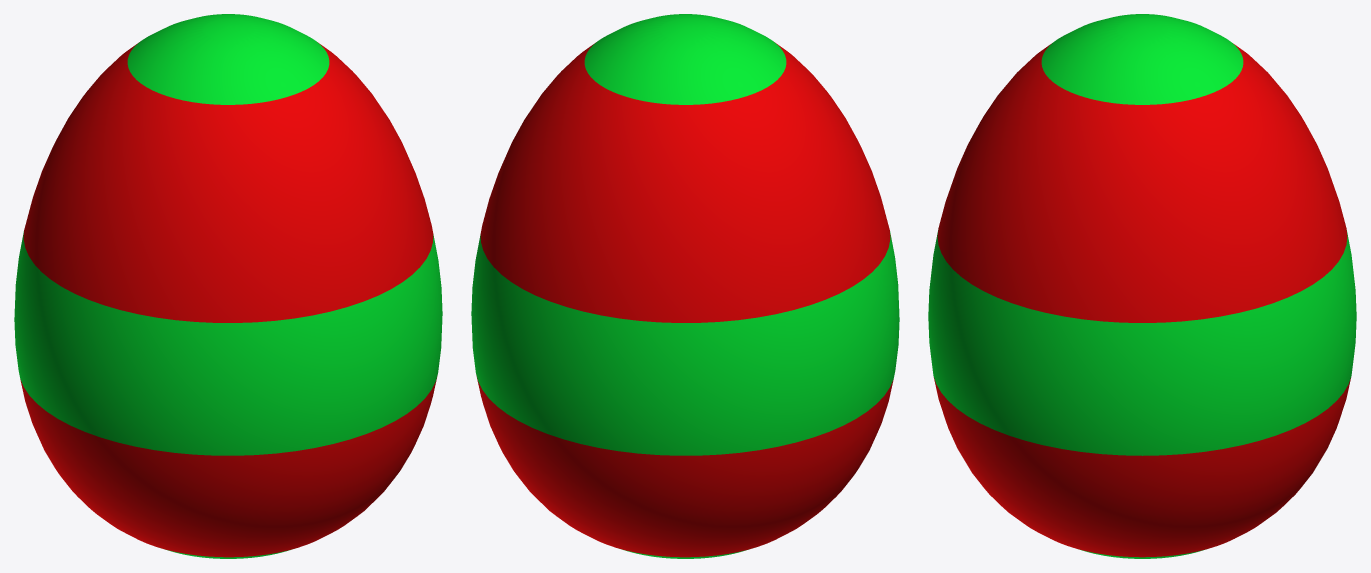
The model's file is egg3.glb.
3 renders of one model, left to right at view 1: azimuth 30°, elevation 25°; view 2: azimuth 150°, elevation 25°; view 3: azimuth 270°, elevation 25°, orthographic.
Visible parts, largest first — view 1: 12172_Egg_v1_l2.001; view 2: 12172_Egg_v1_l2.001; view 3: 12172_Egg_v1_l2.001.
Part boxes in pixels (x1=…): 12172_Egg_v1_l2.001: x1=14, y1=14, x2=442, y2=558; 12172_Egg_v1_l2.001: x1=471, y1=14, x2=899, y2=558; 12172_Egg_v1_l2.001: x1=928, y1=14, x2=1356, y2=558.
Bounding box in the file's own units: 0.8176 × 1.08 × 0.8176.
